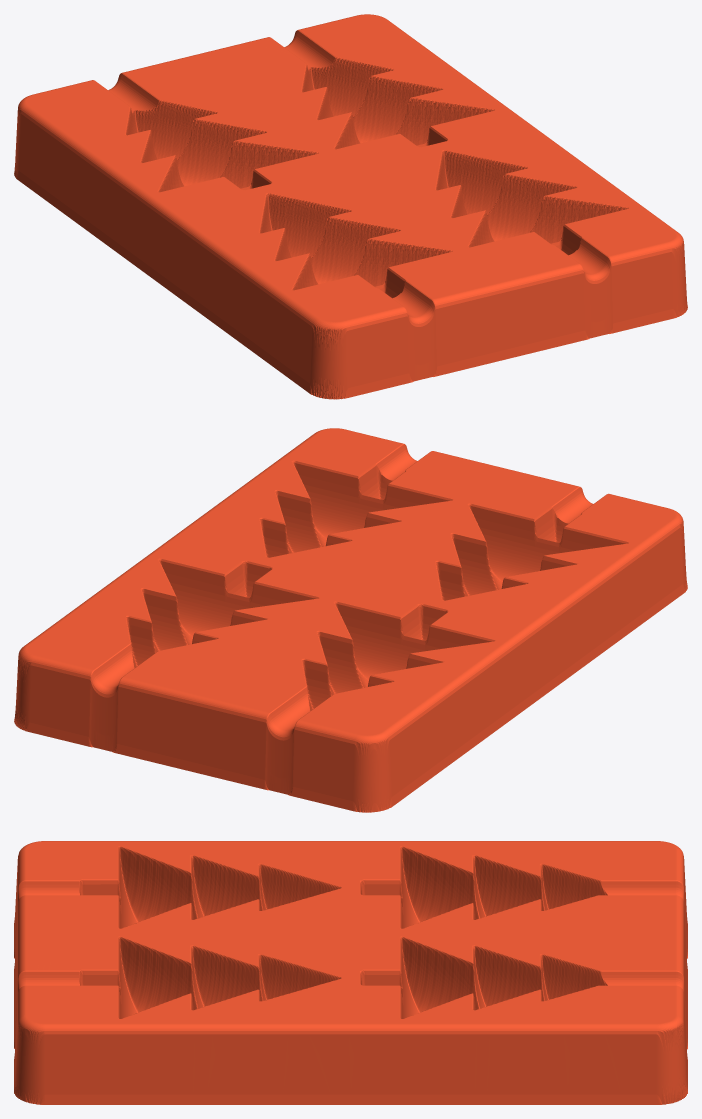
The model's file is mold.glb.
The picture shows the model from 3 angles, top to bottom: view 1: azimuth 30°, elevation 25°; view 2: azimuth 150°, elevation 25°; view 3: azimuth 270°, elevation 25°; orthographic projection. The views are drawn at different scales.
Visible parts, largest first — view 1: geometry_0; view 2: geometry_0; view 3: geometry_0.
Part boxes in pixels (x1,y1,x2,y2): geometry_0: (14,14,687,399); geometry_0: (14,428,687,812); geometry_0: (14,841,687,1104).
Bounding box in the file's own units: 0.1329 × 0.0245 × 0.1968.
